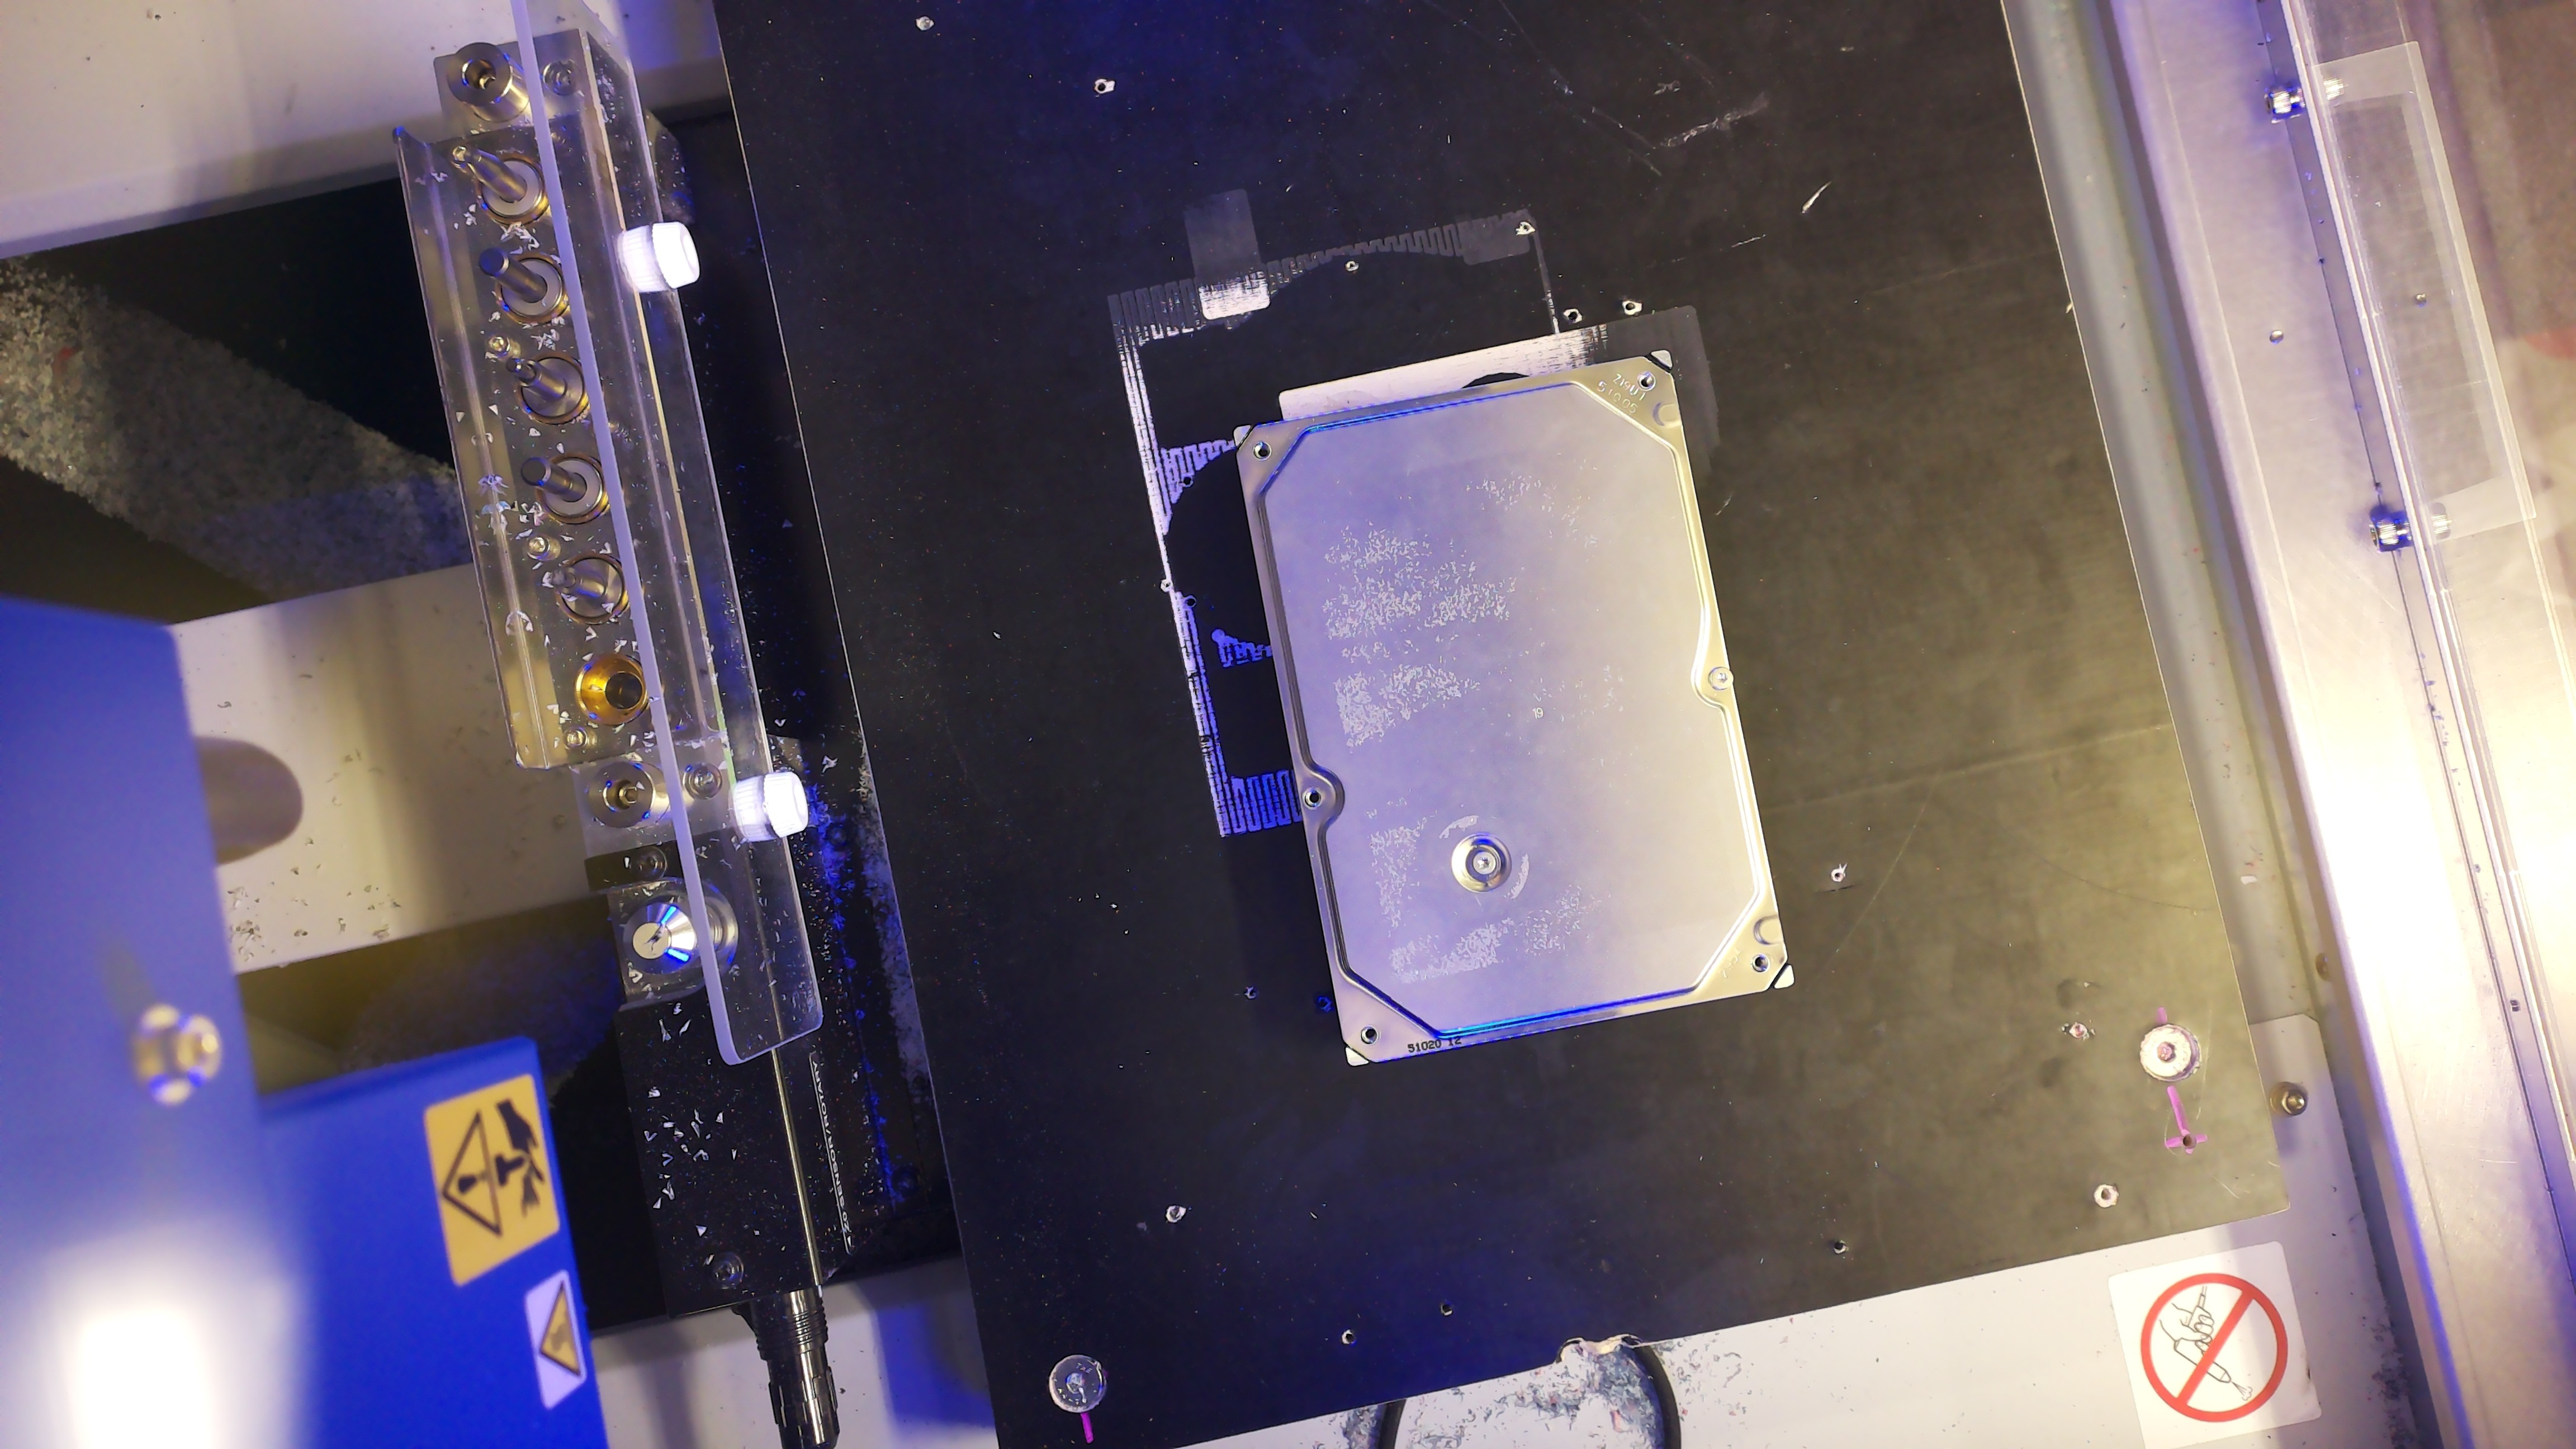Hole: (1302, 787, 1323, 809), (1251, 441, 1272, 460), (1361, 1024, 1378, 1046), (1752, 954, 1769, 971), (1638, 372, 1656, 389)
Screw: (1472, 849, 1497, 874), (1709, 665, 1734, 690)
